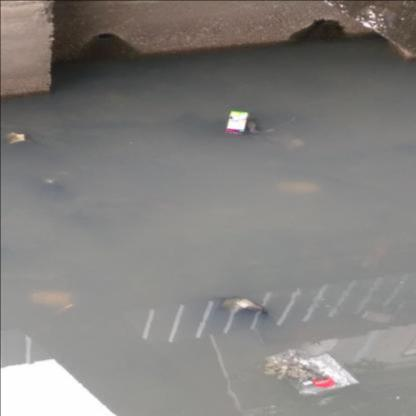Carton: (226, 110, 249, 134)
Plastic bag - wrapper: (265, 344, 361, 397)
